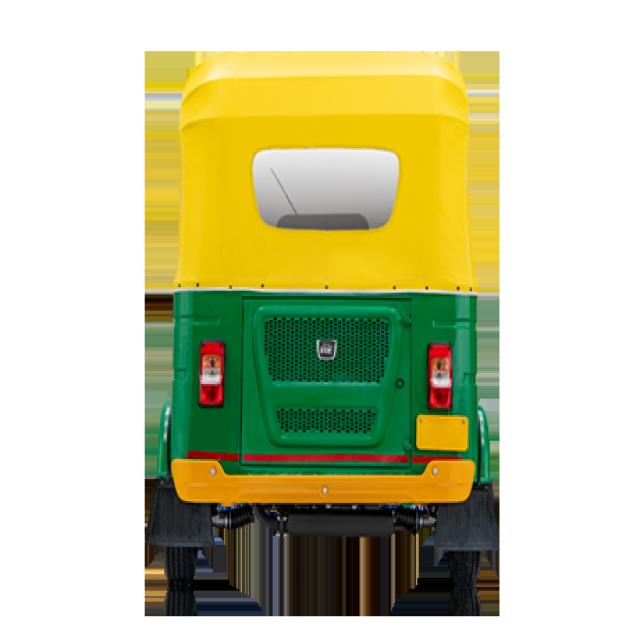autorickshaw: (146, 53, 498, 614)
